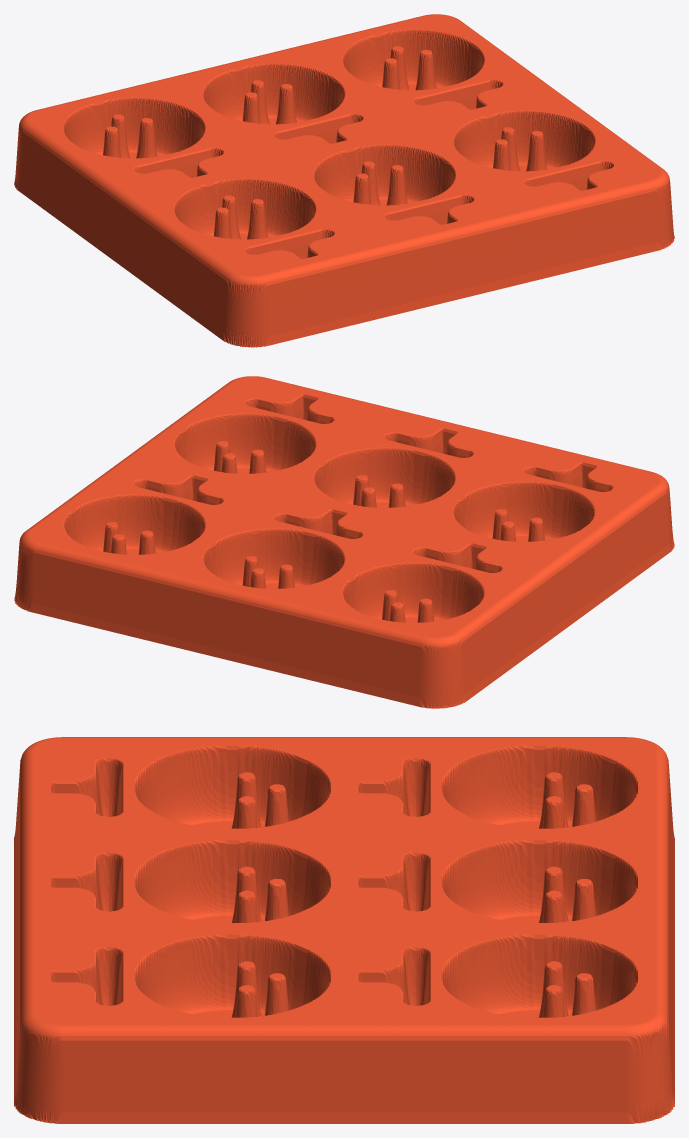
Rendered from mold.glb.
The picture shows the model from 3 angles, top to bottom: view 1: azimuth 30°, elevation 25°; view 2: azimuth 150°, elevation 25°; view 3: azimuth 270°, elevation 25°; orthographic projection. The views are drawn at different scales.
Parts seen in each view (by area): view 1: geometry_0; view 2: geometry_0; view 3: geometry_0.
Part boxes in pixels (x1,y1,x2,y2): geometry_0: [14, 14, 674, 347]; geometry_0: [14, 376, 674, 708]; geometry_0: [14, 737, 674, 1123].
Bounding box in the file's own units: 0.1326 × 0.0185 × 0.1222.
